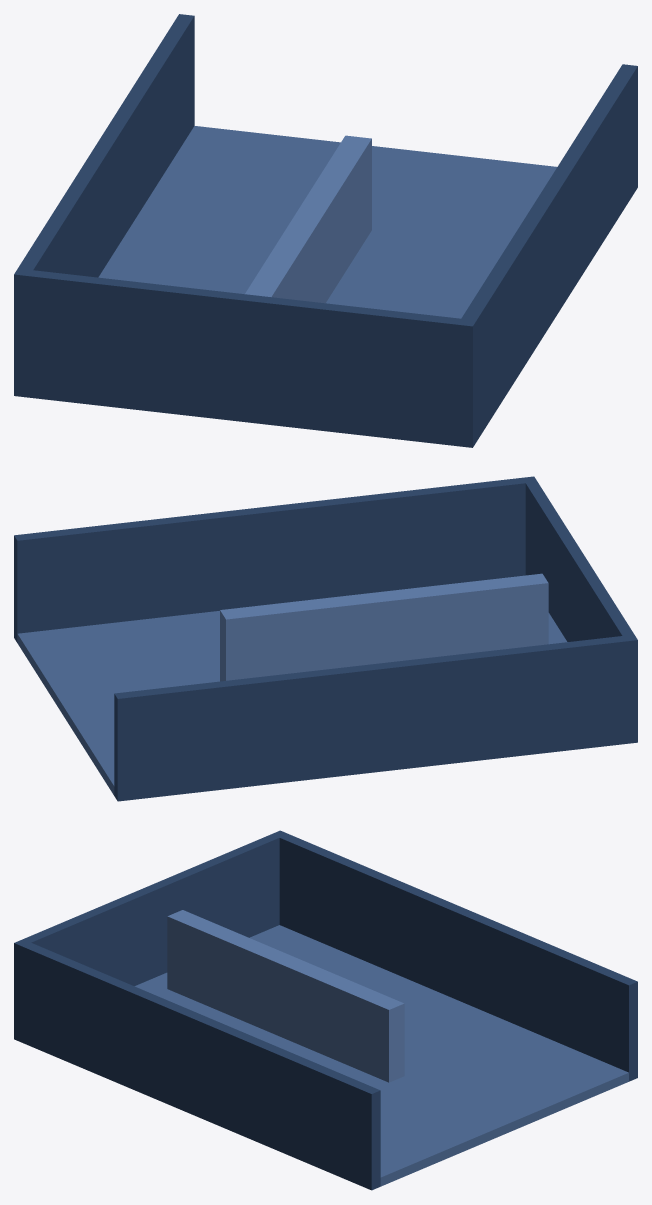
Rendered from arena_03.glb.
3 renders of one model, top to bottom at view 1: azimuth 30°, elevation 25°; view 2: azimuth 150°, elevation 25°; view 3: azimuth 270°, elevation 25°, orthographic. The views are drawn at different scales.
Parts seen in each view (by area): view 1: arena; view 2: arena; view 3: arena.
Part boxes in pixels (box(x1,y1,x2,y2)): arena: box(14, 14, 637, 447); arena: box(14, 476, 637, 801); arena: box(14, 830, 637, 1190).
Size of the model in its own units: 15.56 by 2.65 by 15.56.
